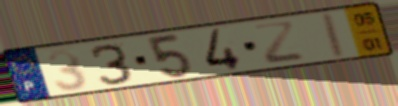3: (90, 42, 136, 87), (45, 47, 89, 92)
4: (203, 26, 244, 73)
5: (142, 31, 196, 80)
I: (322, 10, 350, 61)
Z: (250, 20, 308, 67)
